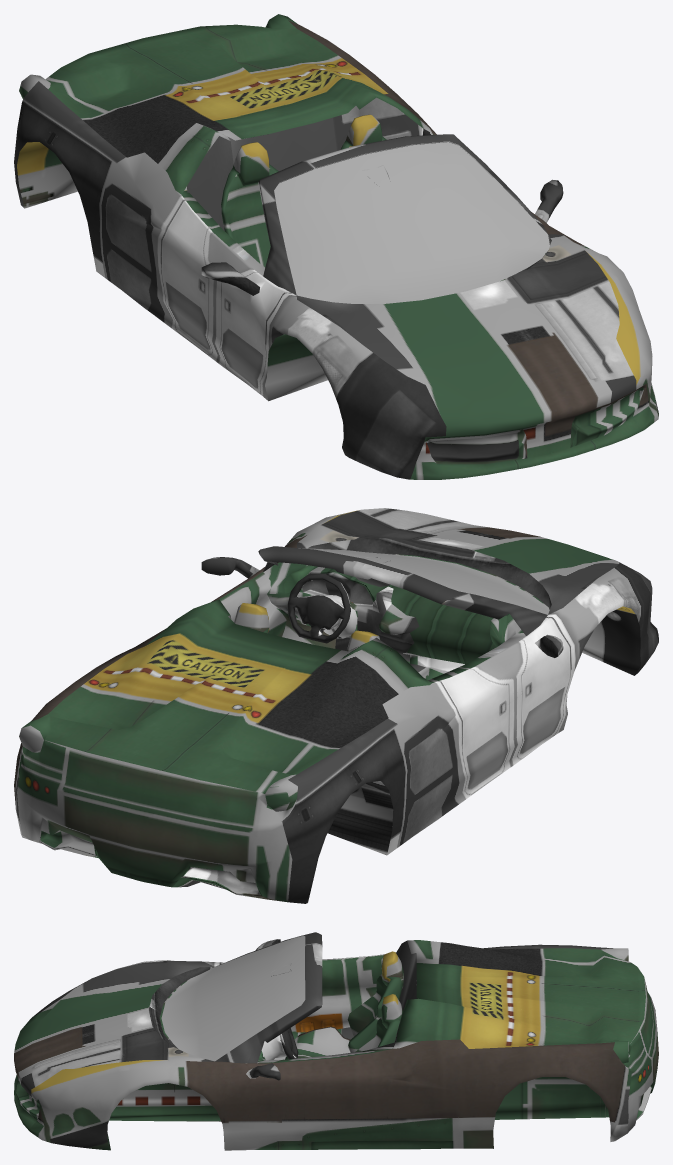
The model's file is CAR 3.fbx.
3 views of the same model, one above another, from view 1: azimuth 30°, elevation 25°; view 2: azimuth 150°, elevation 25°; view 3: azimuth 270°, elevation 25° (orthographic). The views are drawn at different scales.
Visible parts, largest first — view 1: BODY; view 2: BODY; view 3: BODY.
Part boxes in pixels (<box>): BODY: <box>14,14,658,479</box>; BODY: <box>14,508,658,903</box>; BODY: <box>14,932,658,1150</box>.
Size of the model in its own units: 374 by 177 by 760.
